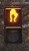stop: (5, 7, 22, 27)
